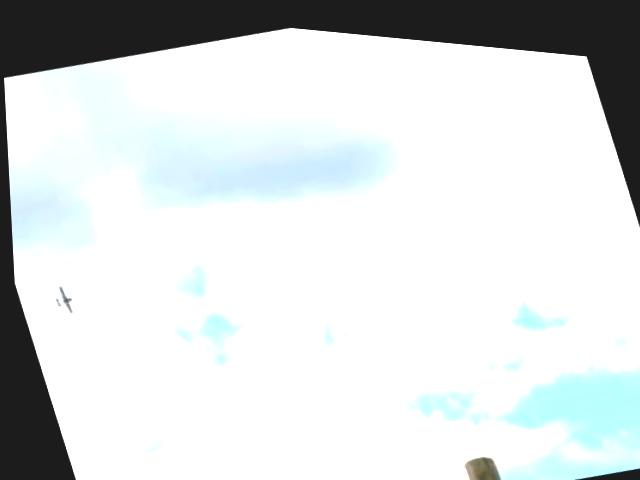uav: (46, 278, 77, 318)
